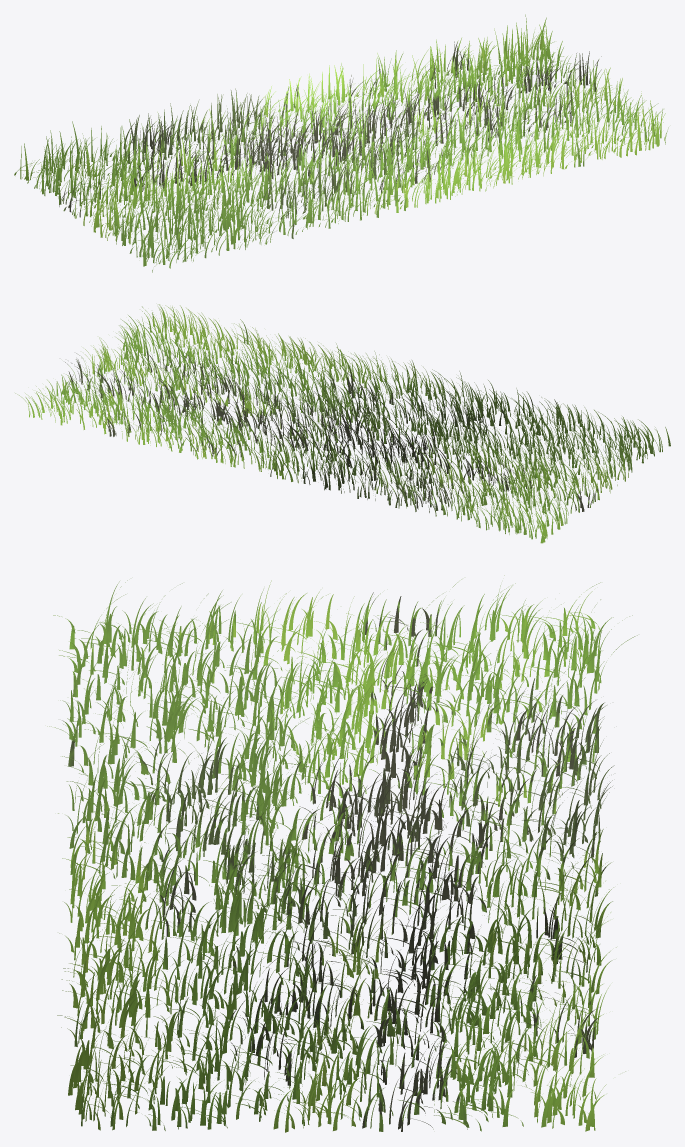
The model's file is CheapGrassV1.fbx.
3 views of the same model, one above another, from view 1: azimuth 30°, elevation 25°; view 2: azimuth 150°, elevation 25°; view 3: azimuth 270°, elevation 25° (orthographic). The views are drawn at different scales.
Parts seen in each view (by area): view 1: Grass; view 2: Grass; view 3: Grass.
Part boxes in pixels (x1=…): Grass: x1=14, y1=14, x2=668, y2=272; Grass: x1=15, y1=304, x2=670, y2=543; Grass: x1=47, y1=575, x2=637, y2=1132.
Bounding box in the file's own units: 927 × 51.15 × 448.
1 material, 1 textured.
